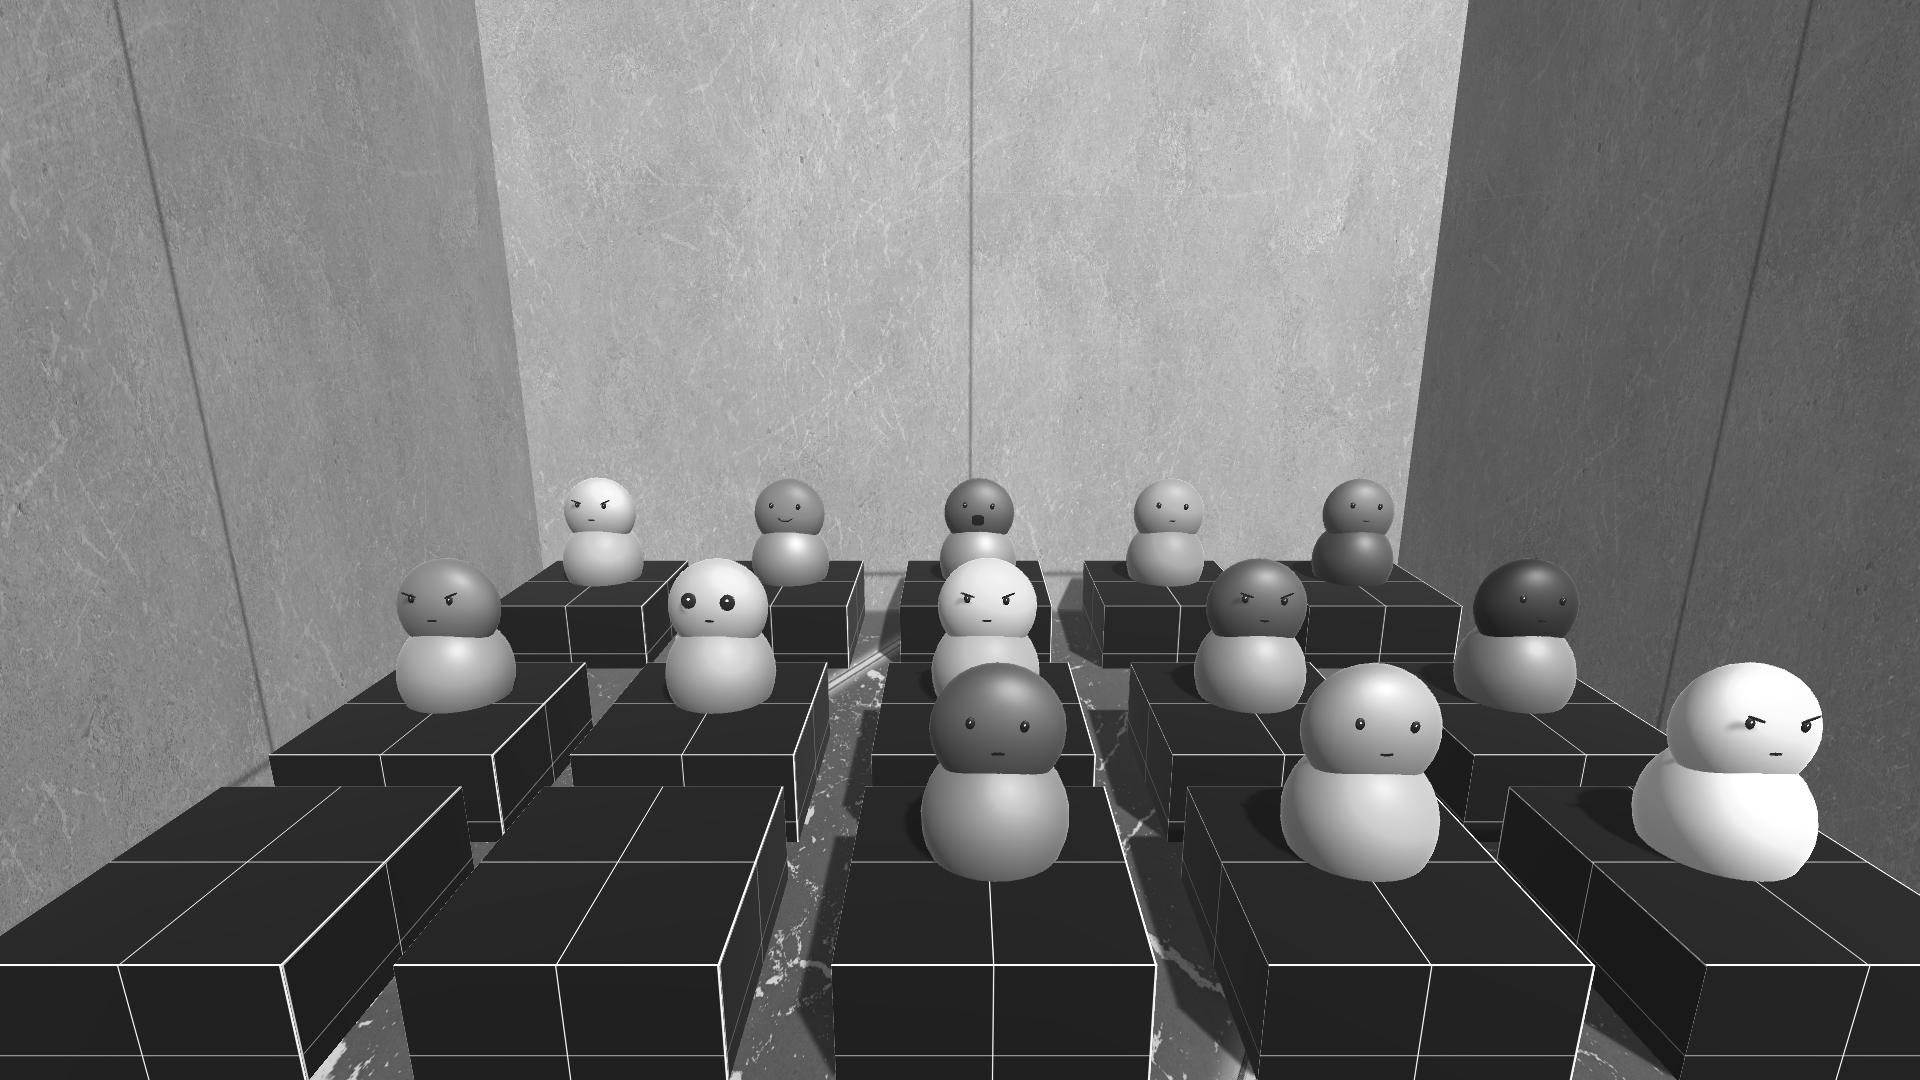blob_atento: (665, 555, 773, 647)
blob_feliz: (752, 477, 824, 535)
blob_normal: (1280, 659, 1456, 791), (923, 657, 1069, 785), (1468, 558, 1586, 645), (1124, 468, 1211, 535), (1320, 477, 1404, 542)
blob_raiva: (1658, 644, 1821, 779), (382, 553, 513, 651), (1199, 555, 1317, 641), (938, 555, 1054, 642), (556, 472, 640, 539)
blob_surpreso: (945, 480, 1021, 533)
